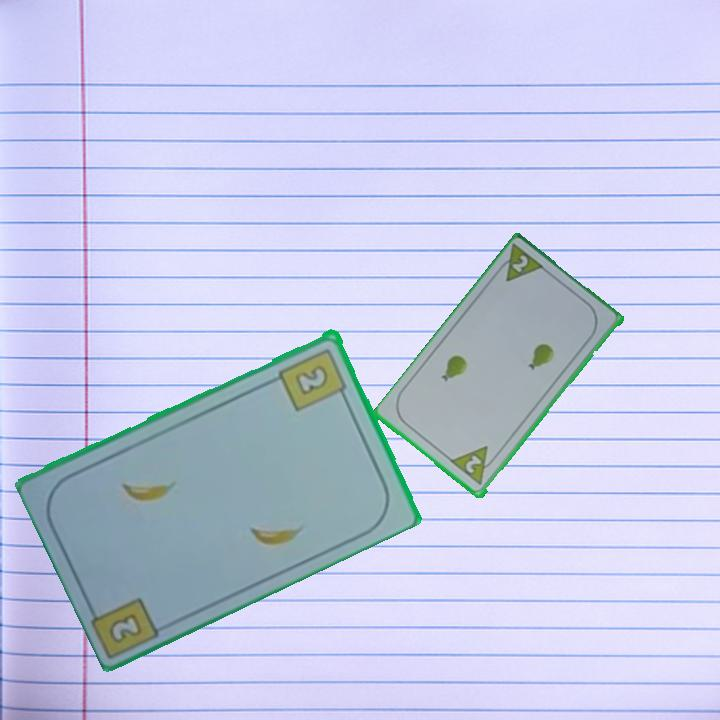2b: (275, 344, 350, 414), (108, 612, 142, 643)
2p: (492, 241, 548, 286), (461, 452, 485, 477)
